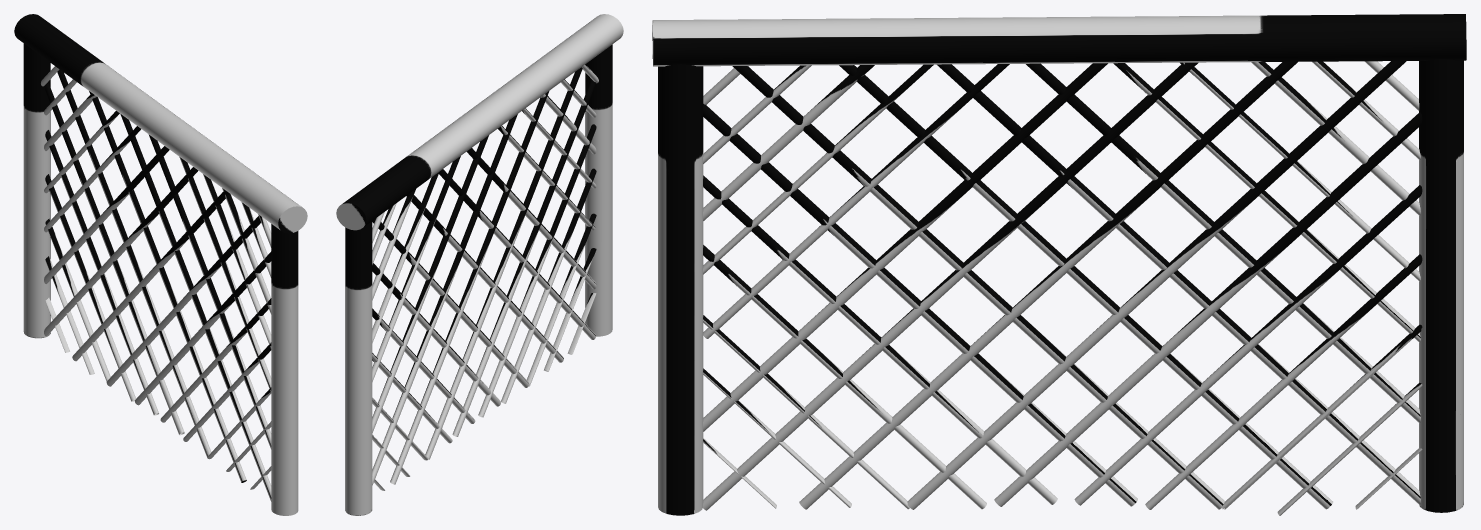
The model's file is Fence (1).fbx.
3 views of the same model, side by side, from view 1: azimuth 30°, elevation 25°; view 2: azimuth 150°, elevation 25°; view 3: azimuth 270°, elevation 25° (orthographic). The views are drawn at different scales.
Parts seen in each view (by area): view 1: pasted__pasted__pCylinder1, pasted__pasted__pCylinder3, pasted__pCylinder1, pasted__pasted__pasted__pCylinder8, pasted__pasted__pasted__pCylinder7, pasted__pasted__pCylinder8, pasted__pasted__pasted__pCylinder5, pasted__pasted__pasted__pasted__pCylinder4, pasted__pCylinder2, pasted__pasted__pCylinder5, pasted__pasted__pCylinder6, pasted__pCylinder4 (+15 smaller); view 2: pasted__pasted__pCylinder1, pasted__pCylinder1, pasted__pasted__pCylinder3, pasted__pasted__pCylinder5, pasted__pCylinder4, pasted__pasted__pCylinder6, pasted__pasted__pCylinder2, pasted__pasted__pasted__pCylinder4, pCylinder2, pasted__pasted__pasted__pCylinder7, pasted__pCylinder3, pasted__pasted__pasted__pCylinder8 (+15 smaller); view 3: pasted__pasted__pCylinder1, pasted__pasted__pCylinder3, pasted__pCylinder1, pasted__pasted__pCylinder8, pasted__pasted__pasted__pCylinder8, pasted__pasted__pasted__pCylinder7, pasted__pCylinder4, pasted__pasted__pCylinder5, pasted__pasted__pCylinder6, pasted__pasted__pasted__pCylinder5, pasted__pasted__pCylinder2, pasted__pasted__pasted__pasted__pCylinder4 (+17 smaller).
Boxes of the visible parts, left/top/right/bottom form: pasted__pasted__pCylinder1: left=14, top=14, right=307, bottom=233; pasted__pasted__pCylinder3: left=271, top=224, right=298, bottom=515; pasted__pCylinder1: left=23, top=43, right=50, bottom=338; pasted__pasted__pasted__pCylinder8: left=89, top=91, right=246, bottom=482; pasted__pasted__pasted__pCylinder7: left=120, top=114, right=271, bottom=501; pasted__pasted__pCylinder8: left=57, top=69, right=211, bottom=457; pasted__pasted__pasted__pCylinder5: left=45, top=83, right=184, bottom=435; pasted__pasted__pasted__pasted__pCylinder4: left=148, top=134, right=271, bottom=449; pasted__pCylinder2: left=45, top=130, right=158, bottom=415; pasted__pasted__pCylinder5: left=72, top=190, right=229, bottom=361; pasted__pasted__pCylinder6: left=44, top=167, right=198, bottom=336; pasted__pCylinder4: left=106, top=216, right=260, bottom=386; pasted__pasted__pCylinder1: left=336, top=14, right=623, bottom=230; pasted__pCylinder1: left=345, top=221, right=372, bottom=515; pasted__pasted__pCylinder3: left=585, top=44, right=612, bottom=336; pasted__pasted__pCylinder5: left=390, top=91, right=549, bottom=484; pasted__pCylinder4: left=425, top=67, right=582, bottom=459; pasted__pasted__pCylinder6: left=372, top=114, right=517, bottom=485; pasted__pasted__pCylinder2: left=452, top=79, right=596, bottom=436; pasted__pasted__pasted__pCylinder4: left=372, top=135, right=488, bottom=432; pCylinder2: left=478, top=124, right=596, bottom=417; pasted__pasted__pasted__pCylinder7: left=439, top=169, right=595, bottom=339; pasted__pCylinder3: left=501, top=168, right=596, bottom=403; pasted__pasted__pasted__pCylinder8: left=406, top=192, right=563, bottom=362; pasted__pasted__pCylinder1: left=652, top=14, right=1466, bottom=66; pasted__pasted__pCylinder3: left=658, top=64, right=703, bottom=515; pasted__pCylinder1: left=1419, top=59, right=1463, bottom=512; pasted__pasted__pCylinder8: left=907, top=61, right=1406, bottom=509; pasted__pasted__pasted__pCylinder8: left=799, top=61, right=1297, bottom=509; pasted__pasted__pasted__pCylinder7: left=703, top=62, right=1198, bottom=510; pasted__pCylinder4: left=732, top=66, right=1224, bottom=509; pasted__pasted__pCylinder5: left=839, top=65, right=1333, bottom=509; pasted__pasted__pCylinder6: left=937, top=64, right=1420, bottom=504; pasted__pasted__pasted__pCylinder5: left=994, top=112, right=1422, bottom=506; pasted__pasted__pCylinder2: left=703, top=104, right=1137, bottom=506; pasted__pasted__pasted__pasted__pCylinder4: left=703, top=63, right=1107, bottom=431.
Size of the model in its own units: 1.08 by 9.92 by 14.77.
1 material, 1 textured.
